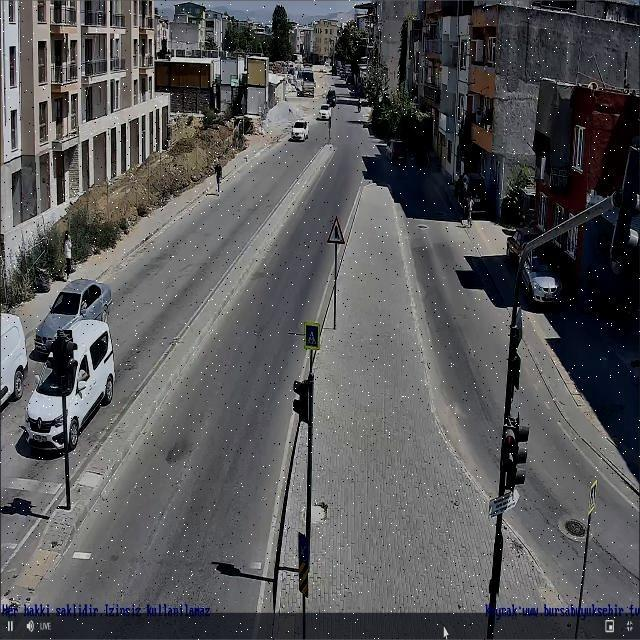Car: (24, 272, 118, 354), (524, 252, 577, 301), (501, 220, 552, 262), (447, 174, 496, 212), (288, 117, 308, 143), (325, 87, 339, 109), (318, 102, 331, 122)
Truck: (294, 70, 323, 102)
Van: (20, 321, 111, 456), (0, 294, 35, 409)
